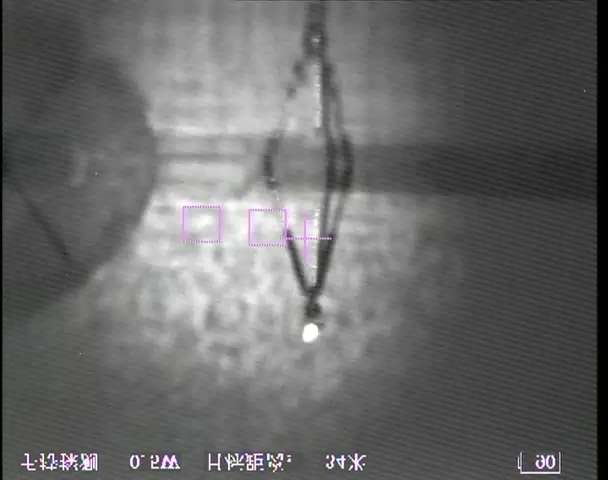my: (301, 322, 320, 345)
